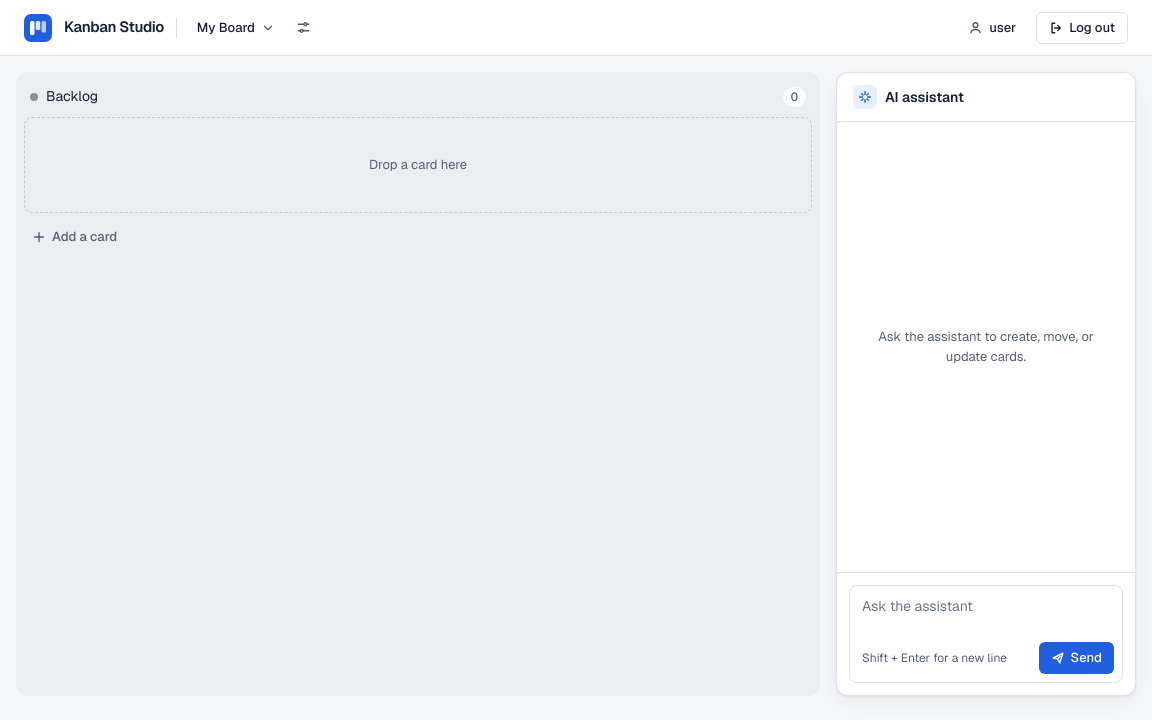
Home page: chat › applies chat updates to the board
This screenshot has width=1152, height=720.
Type "Add a card" into the text box named "Chat message". click: x=986, y=612
box: top-left (850, 586), bottom-right (1122, 638)
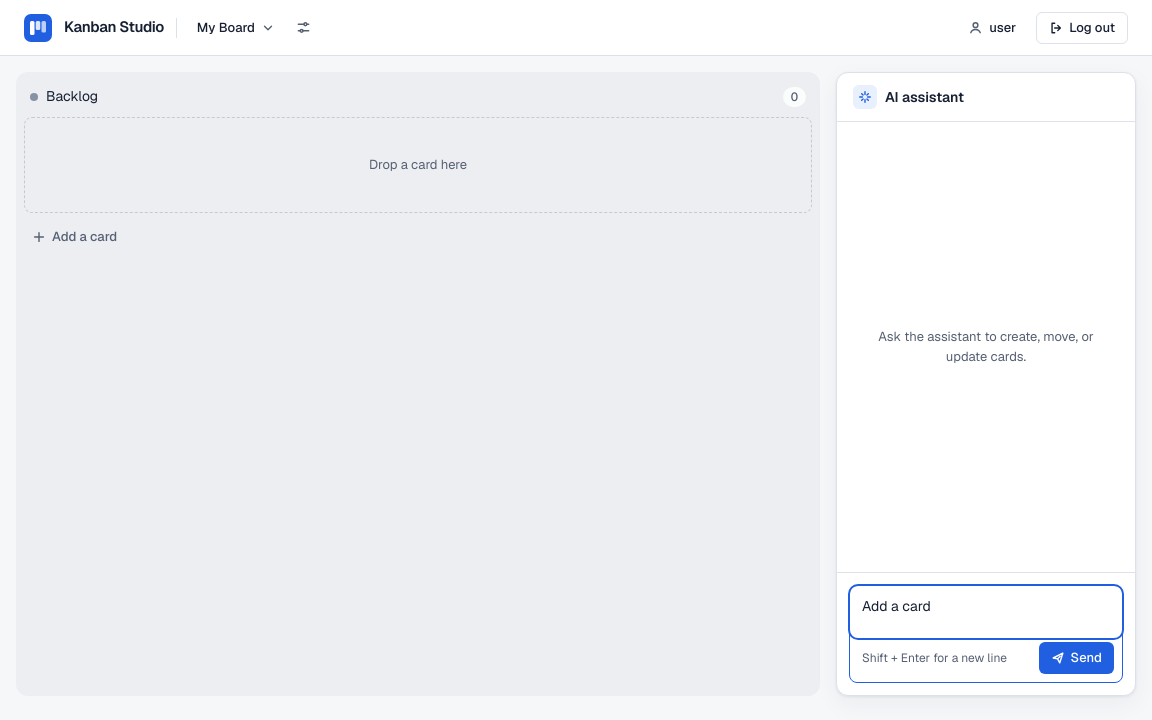
Click the button "Send". click: x=1076, y=658
box: top-left (1039, 642), bottom-right (1114, 674)
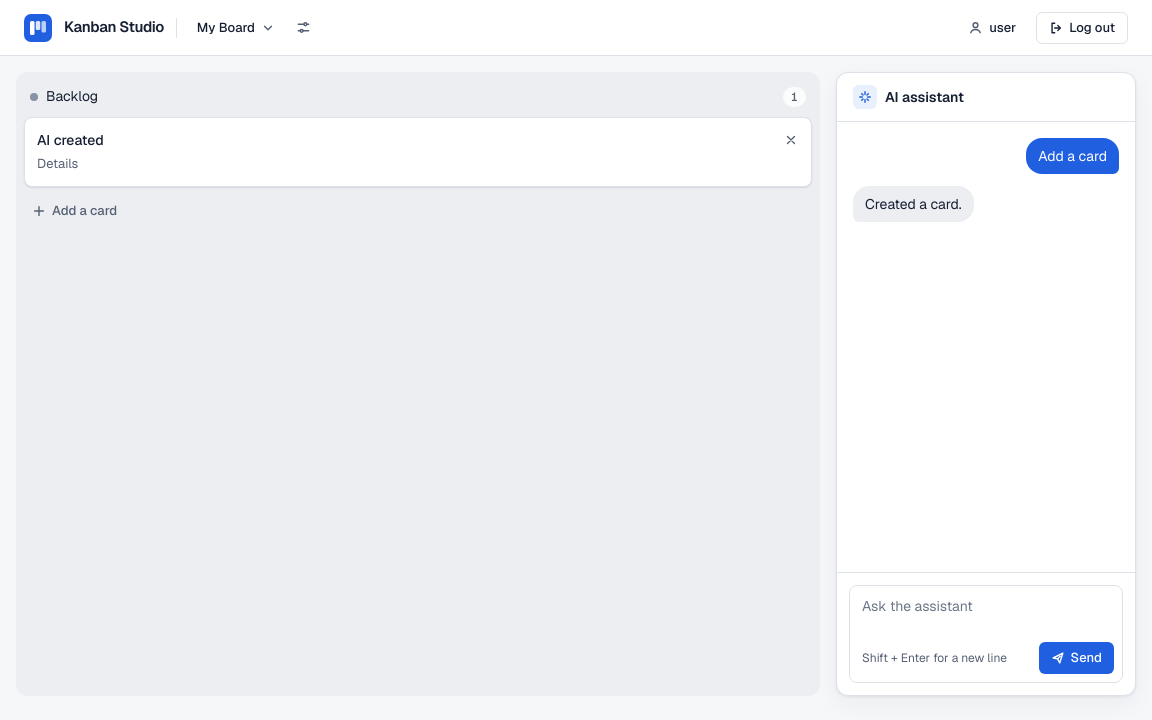
Result: the heading "AI created" is shown at top-left (37, 130), bottom-right (104, 150)
Result: the text "Created a card." is shown at top-left (853, 186), bottom-right (974, 222)
